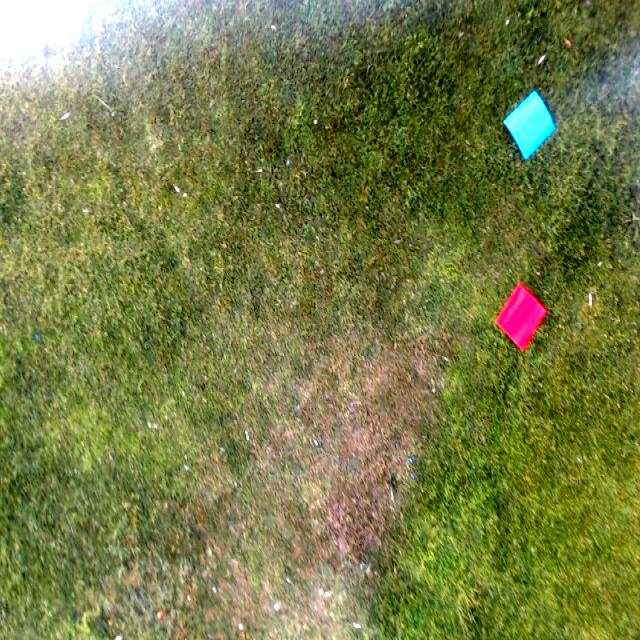blue_square: (503, 88, 558, 158)
red_square: (492, 284, 546, 352)
